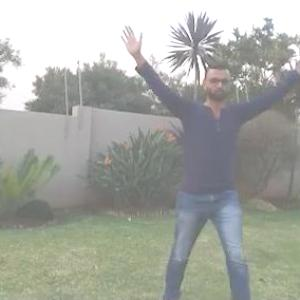takeoff: (117, 30, 299, 299)
